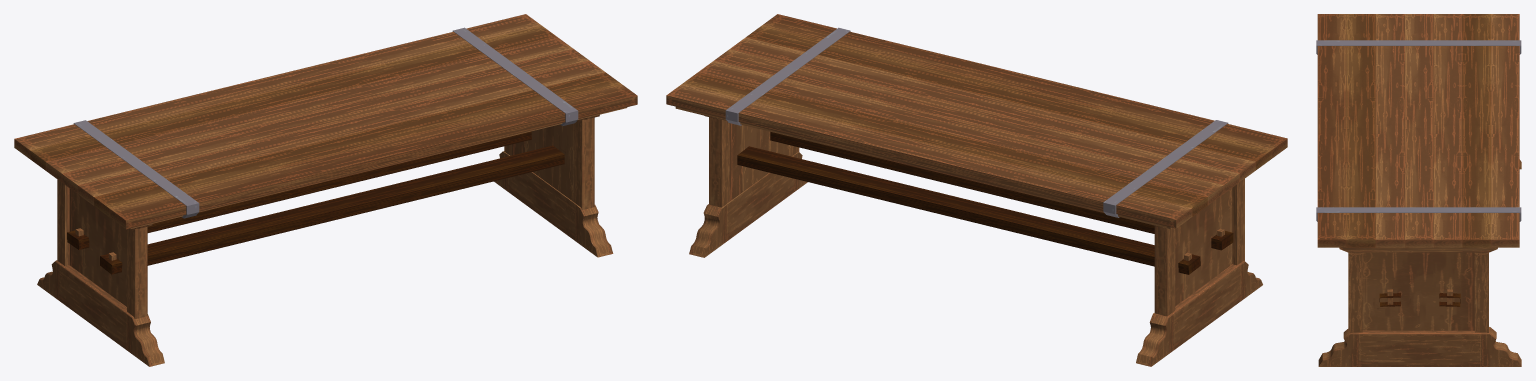
The model's file is Table_Large.gltf.
3 views of the same model, side by side, from view 1: azimuth 30°, elevation 25°; view 2: azimuth 150°, elevation 25°; view 3: azimuth 270°, elevation 25° (orthographic). The views are drawn at different scales.
Parts seen in each view (by area): view 1: Table_Large; view 2: Table_Large; view 3: Table_Large.
Part boxes in pixels (x1=…): Table_Large: x1=14, y1=14, x2=637, y2=366; Table_Large: x1=666, y1=14, x2=1287, y2=366; Table_Large: x1=1316, y1=14, x2=1521, y2=366.
Bounding box in the file's own units: 2.85 × 0.8134 × 1.1.
2 materials, 2 textured.
